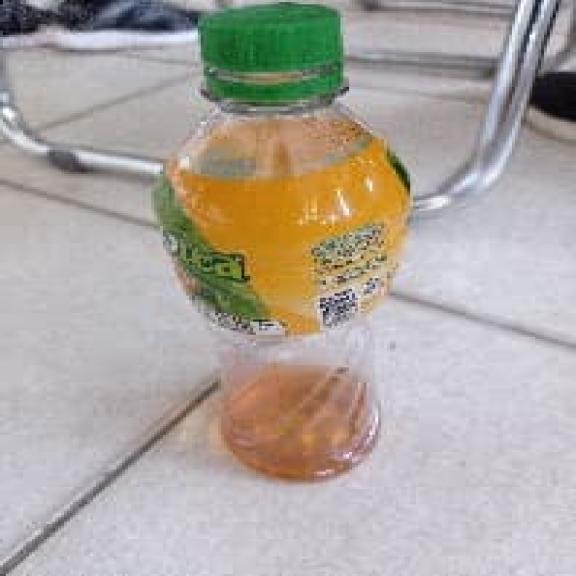Plastik: (157, 8, 410, 480)
